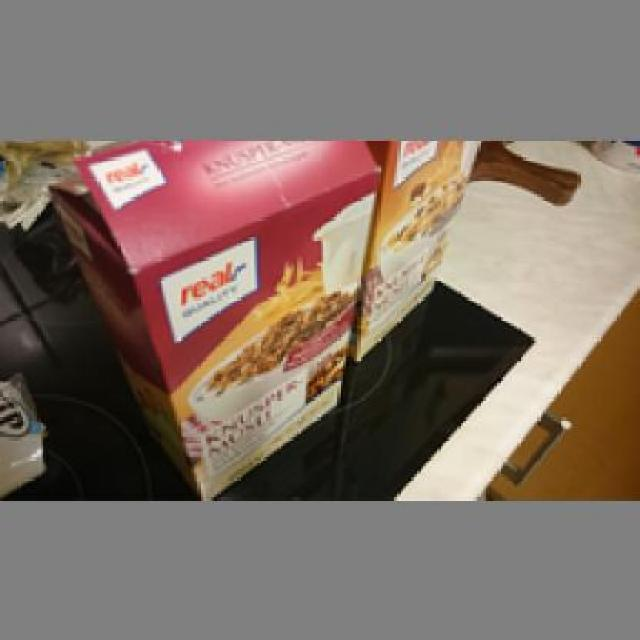Cereal: (51, 140, 380, 500)
